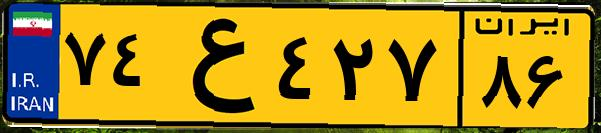2: (330, 28, 385, 110)
4: (270, 28, 330, 110), (110, 28, 158, 98)
6: (525, 38, 570, 115)
7: (385, 28, 445, 110), (57, 26, 110, 100)
8: (475, 38, 525, 113)
ع: (158, 12, 270, 120)
